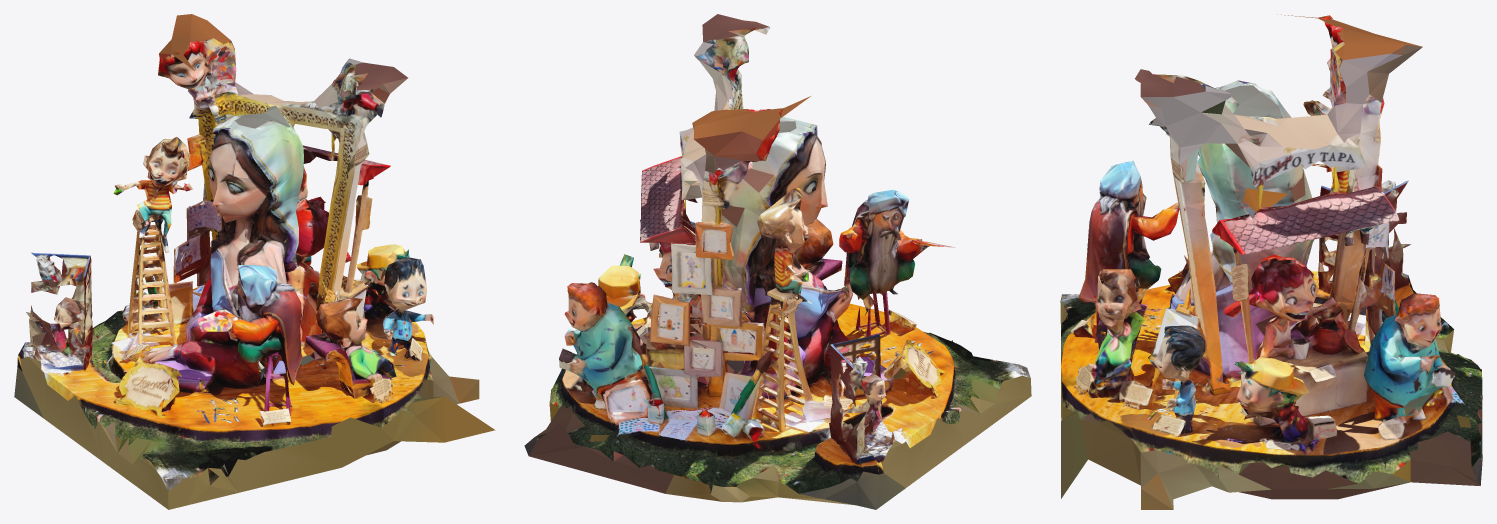
The model's file is falla_infantil_segrelles_2024_-_test_small_ULTRA_30_30_30_30.glb.
3 views of the same model, side by side, from view 1: azimuth 30°, elevation 25°; view 2: azimuth 150°, elevation 25°; view 3: azimuth 270°, elevation 25° (orthographic). The views are drawn at different scales.
Size of the model in its own units: 2.94 by 2.74 by 2.79.
1 material, 1 textured.
